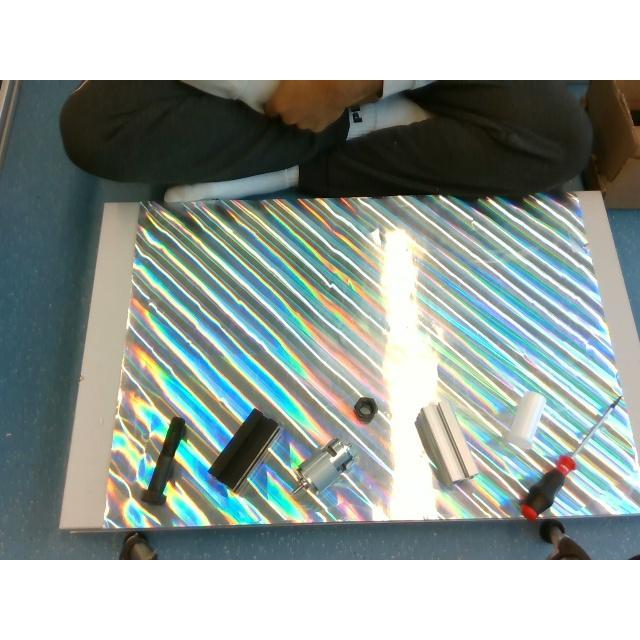M20: (353, 396, 377, 422)
M20_100: (136, 416, 184, 504)
Motor2: (291, 438, 359, 502)
S40_40_B: (209, 408, 279, 492)
S40_40_G: (415, 402, 477, 486)
Spacer: (504, 392, 544, 448)
